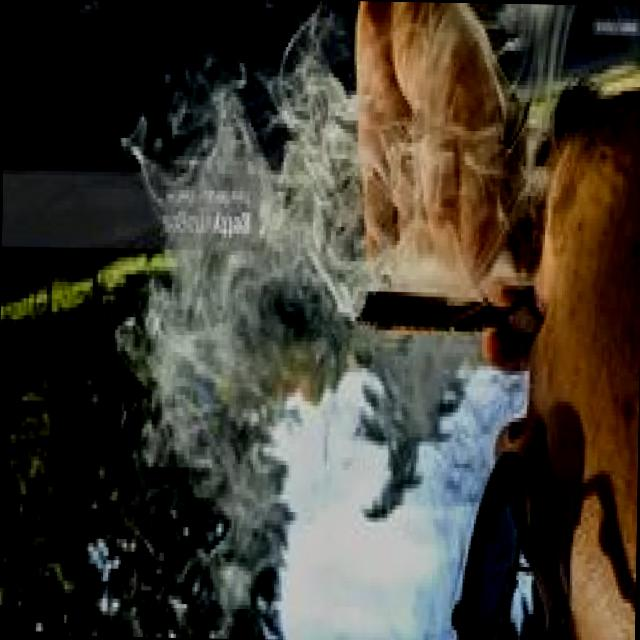cigarette: (336, 278, 526, 350)
